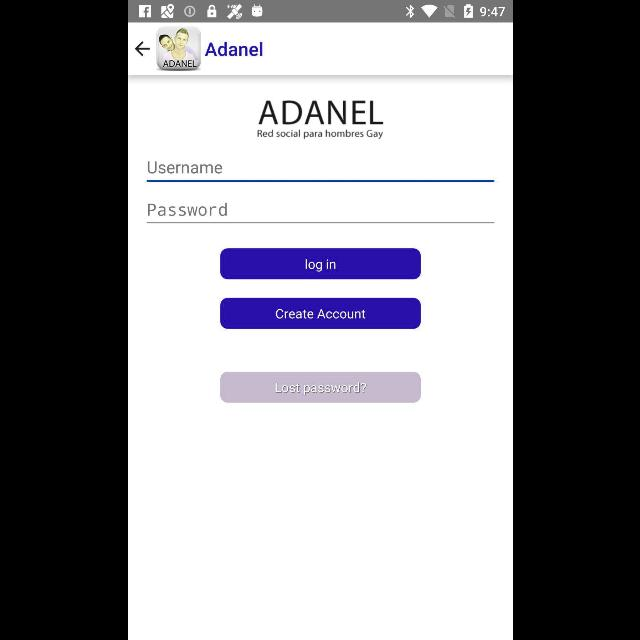icon: (134, 42, 150, 56)
image: (156, 26, 200, 70)
input: (146, 202, 494, 224), (146, 162, 494, 182)
text: (258, 101, 384, 125), (256, 128, 384, 140), (148, 204, 226, 216), (147, 162, 221, 174), (204, 42, 262, 56)
textbutton: (220, 248, 420, 280), (220, 298, 420, 329), (220, 372, 420, 402)
toolbar: (128, 23, 512, 75)
uppertaskbar: (128, 1, 512, 23)
